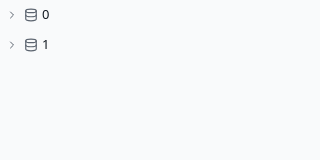
Test: "Script as" menu with Redis › is hidden on key-value nodes
Click the 1st button named "Expand" at (12, 15), box top-left (6, 9), bottom-right (18, 21)
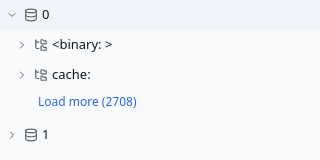
Right-click the list item "cache:" at (53, 74), box top-left (16, 65), bottom-right (91, 83)
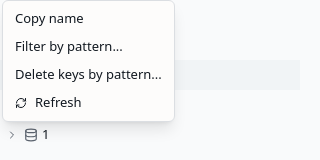
Result: the menu item "Filter by pattern..." is shown at top-left (15, 37), bottom-right (123, 55)
